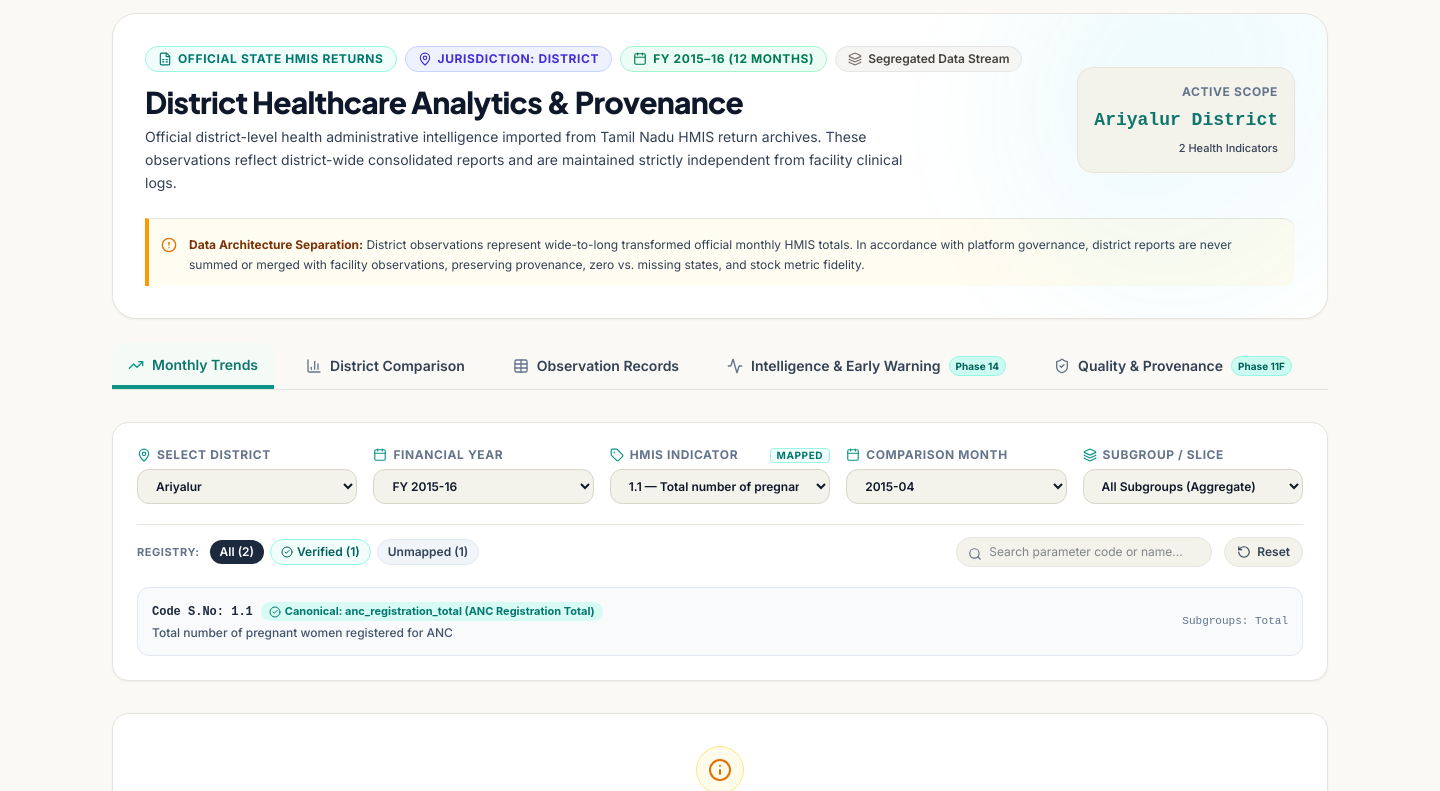
DistrictsPage Component (Phases 11E–12E) › renders empty comparison state when comparison data has no records
Step 1. Click the button "District Comparison" → point(386, 366), box [290,343,481,389]
(page scrolled)
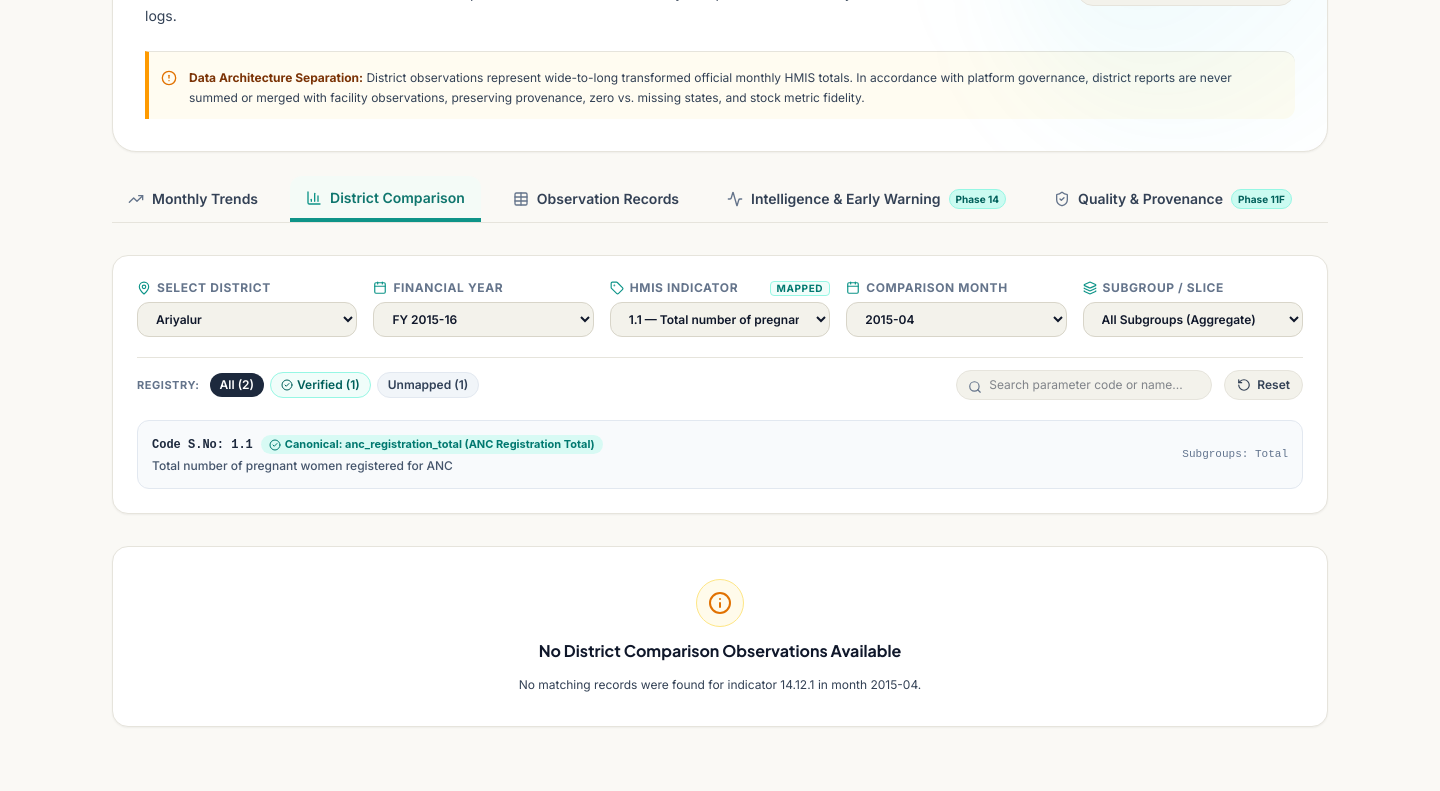
Expected: the heading "No District Comparison Observations Available" is shown, [539,640,901,661]
